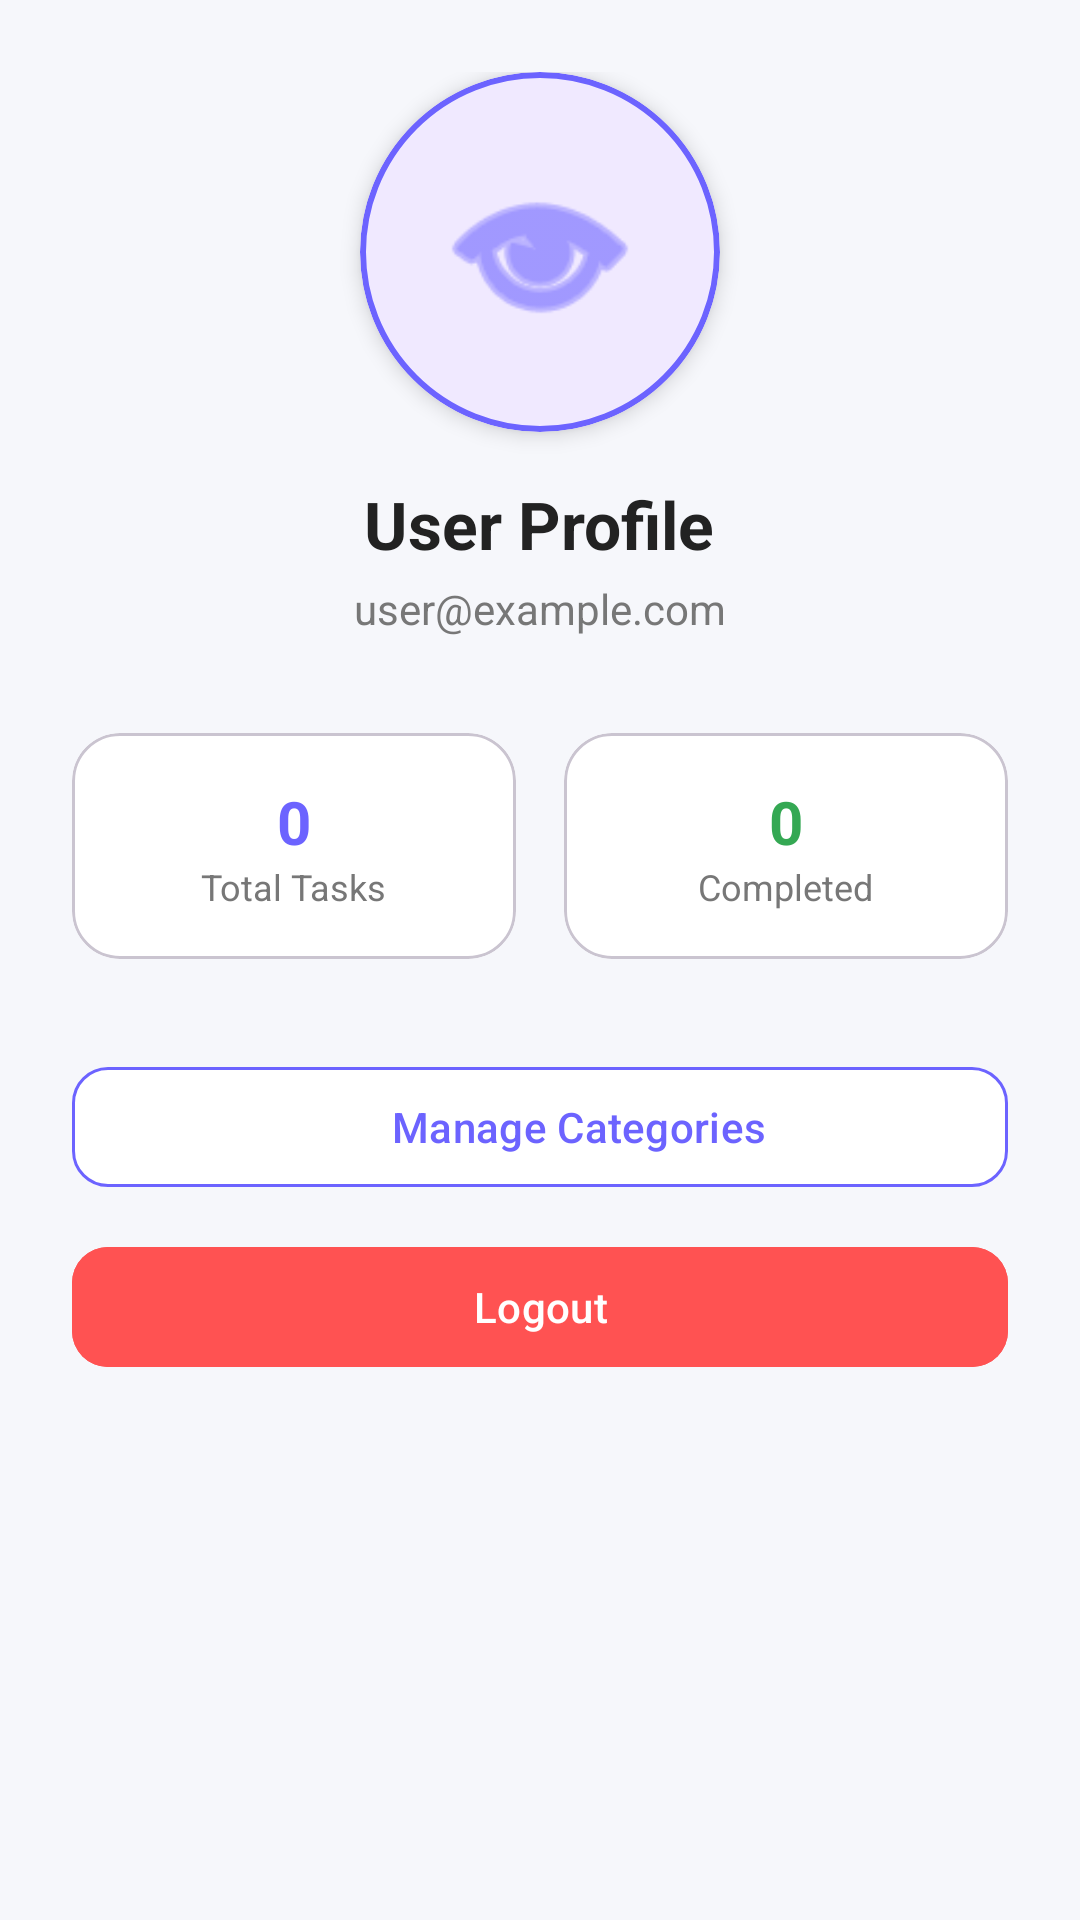

Where icons sit on this 1080×1920 app screen, as {"left": x1, "top": y1, "right": x2, "bottom": y2}:
view: {"left": 360, "top": 72, "right": 720, "bottom": 432}
